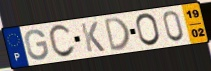0: (162, 10, 185, 43)
C: (47, 23, 77, 60)
D: (102, 16, 132, 54)
G: (24, 28, 50, 62)
K: (79, 20, 107, 53)
O: (135, 12, 162, 48)
